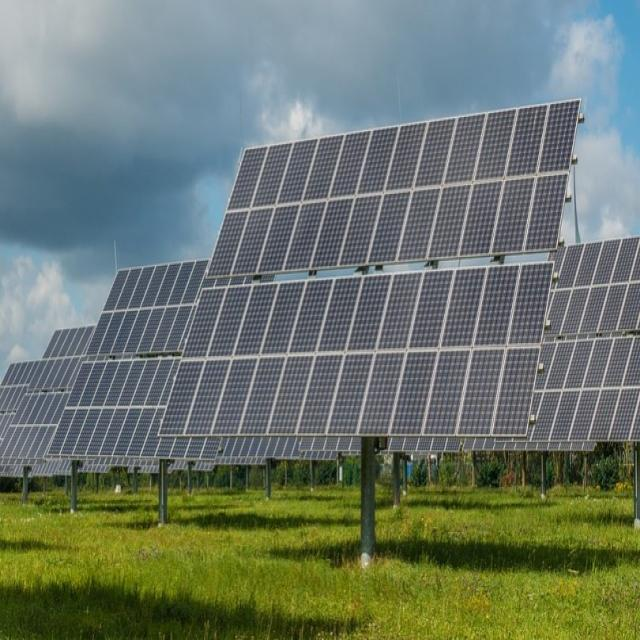dust-solar-panel: (161, 100, 580, 439)
